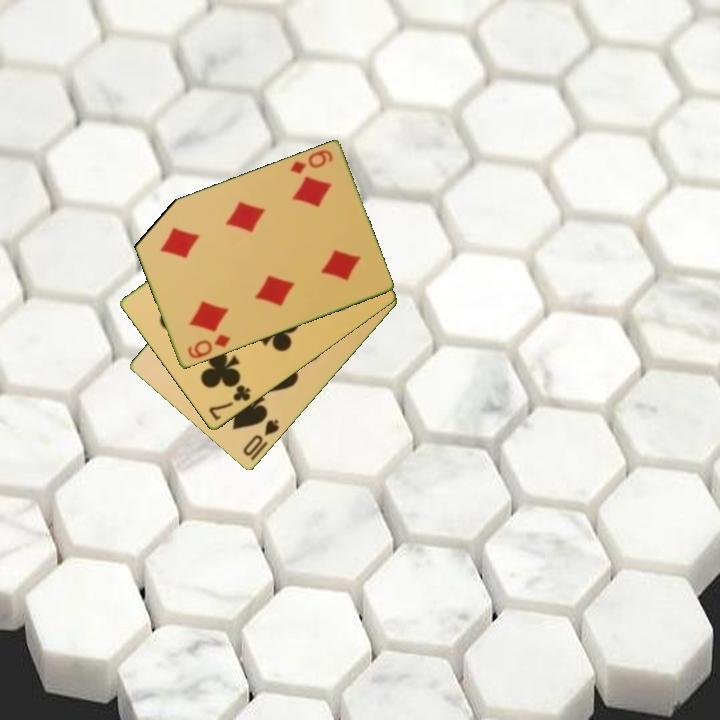10s: (239, 416, 282, 460)
6d: (184, 331, 234, 362), (286, 146, 336, 177)
7c: (205, 381, 254, 424)
